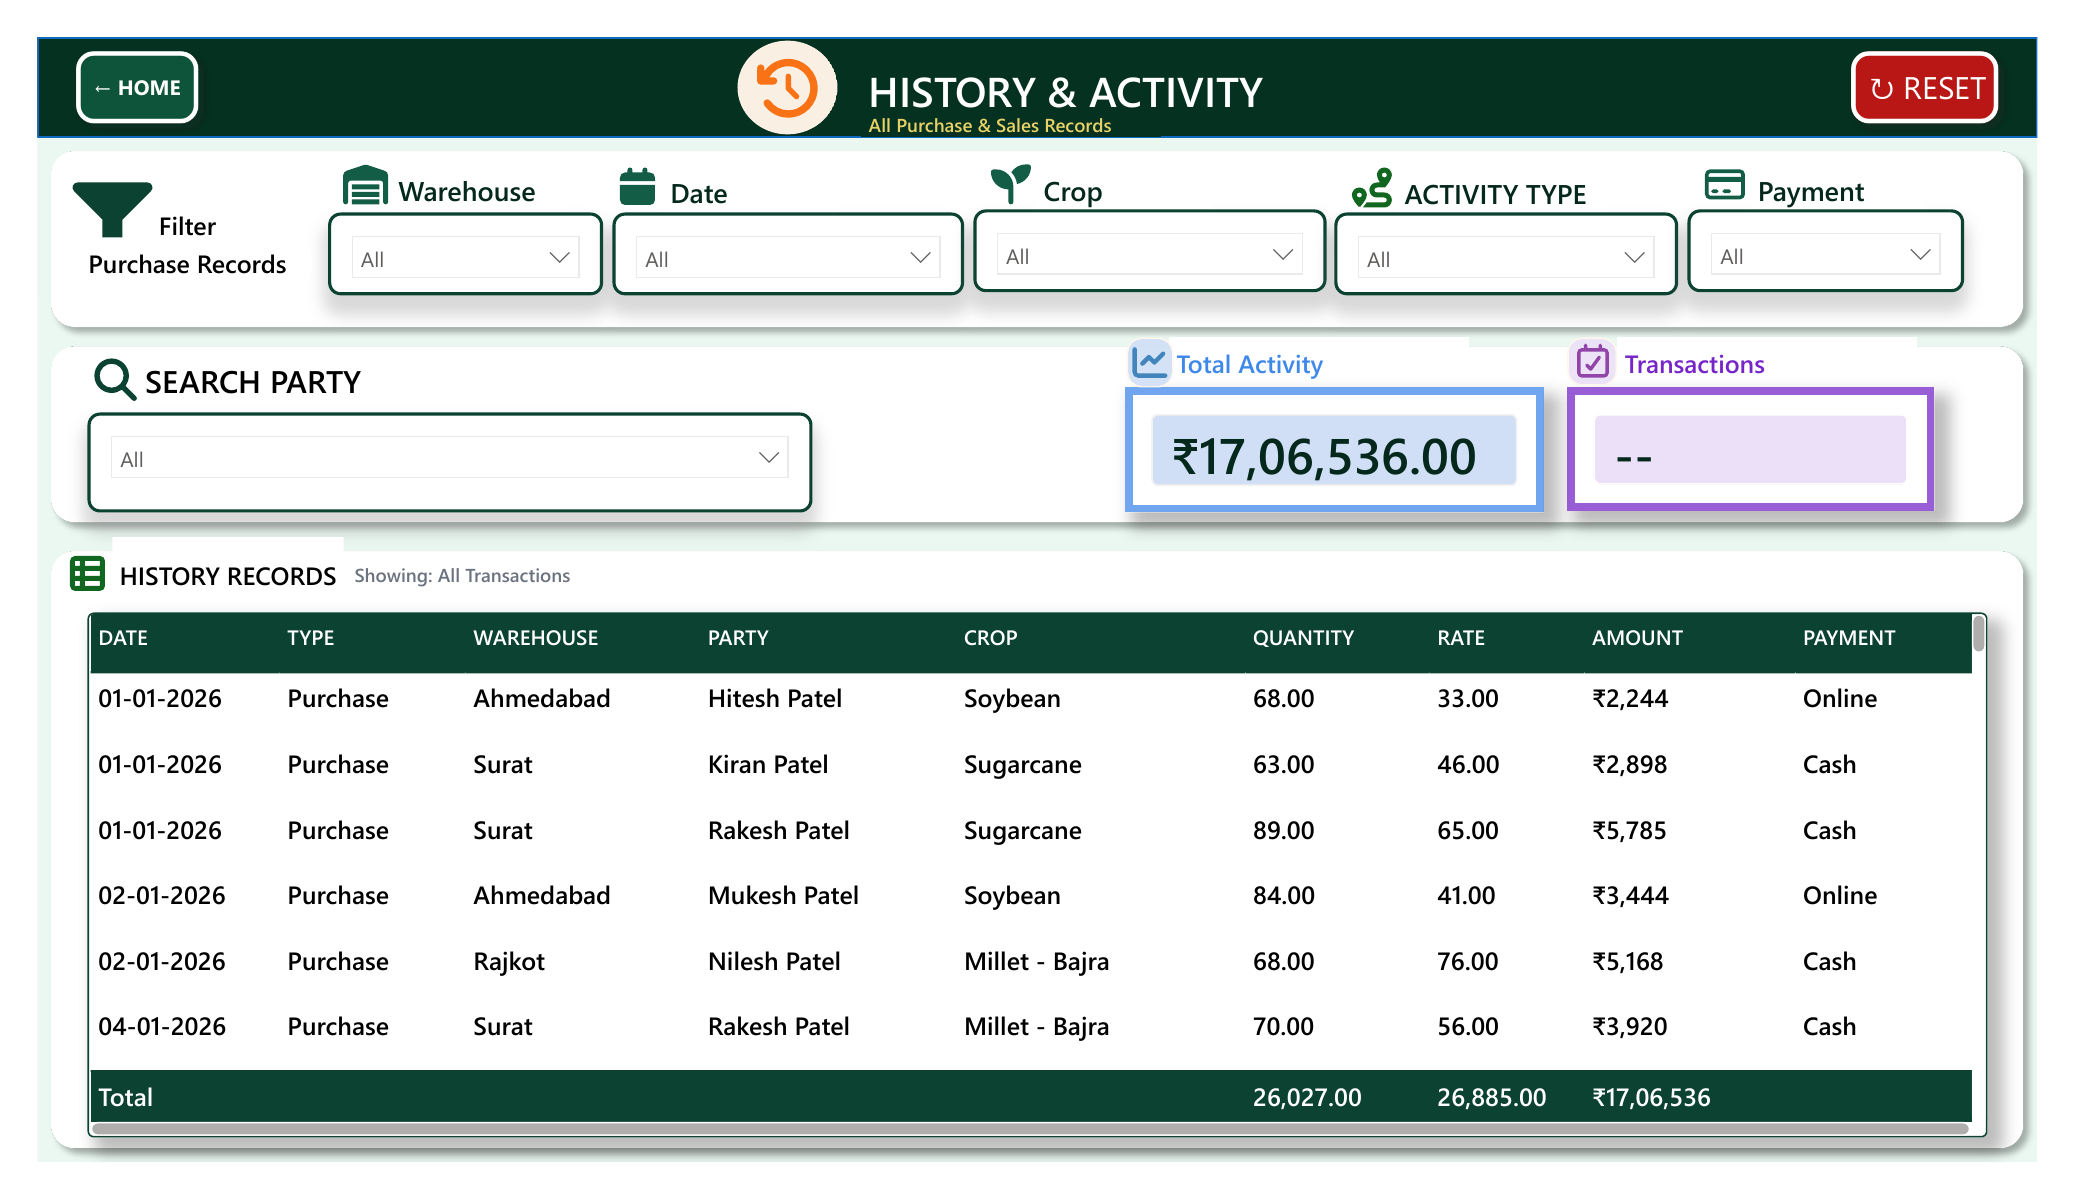

What the dashboard file says about the page in this screenshot:
{"tool":"powerbi","page":{"name":"DETAILED HISTORY","canvas":[1280,720],"ordinal":6},"visuals":[{"type":"shape","box":[0,0,1280,64],"z":0},{"type":"actionButton","box":[16,0,96,64],"z":1000},{"type":"textbox","title":"HISTORY & ACTIVITY","box":[527.4,16,336,32],"z":2000},{"type":"textbox","title":"All Purchase & Sales Records","box":[527.4,48,192,16],"z":3000},{"type":"actionButton","box":[1152,0,112,64],"z":4000},{"type":"shape","box":[448,0,64,64],"z":5000},{"type":"image","box":[457,0,47,64],"z":6000},{"type":"shape","box":[0,189.5,1280,130],"z":7000},{"type":"image","box":[33,197,34,45],"z":8000},{"type":"shape","box":[64,203,161,33],"z":9000},{"type":"slicer","title":"Warehouse","fields":{"Values":["HistoryActivity.Party"]},"box":[32,240,464,64],"z":10000},{"type":"shape","box":[0,64,1280,130],"z":11000},{"type":"shape","box":[64,96,64,48],"z":12000},{"type":"image","box":[16,80,64,64],"z":13000},{"type":"slicer","title":"Warehouse","fields":{"Values":["HistoryActivity.Warehouse"]},"box":[186,112.2,176,53],"z":14000},{"type":"image","box":[194.2,78.4,32,32],"z":15000},{"type":"textbox","title":"Warehouse","box":[226.2,86.4,112,24],"z":16000},{"type":"slicer","title":"Warehouse","fields":{"Values":["HistoryActivity.ActivityDate"]},"box":[368,112,225,53],"z":17000},{"type":"image","box":[368,80,32,32],"z":18000},{"type":"textbox","title":"Date","box":[400,80,112,32],"z":19000},{"type":"slicer","title":"Warehouse","fields":{"Values":["HistoryActivity.Crop"]},"box":[599.3,109.6,226,53],"z":20000},{"type":"image","box":[607.3,77.6,32,32],"z":21000},{"type":"textbox","title":"Crop","box":[639.3,85.6,112,24],"z":22000},{"type":"slicer","title":"Warehouse","fields":{"Values":["HistoryActivity.Type"]},"box":[830.4,112,220,53],"z":23000},{"type":"image","box":[838.4,80,32,32],"z":24000},{"type":"textbox","title":"ACTIVITY TYPE","box":[870.4,88,135,24],"z":25000},{"type":"slicer","title":"Warehouse","fields":{"Values":["HistoryActivity.PaymentMethod"]},"box":[1056.2,110.2,177,53],"z":26000},{"type":"image","box":[1064.2,78.2,32,32],"z":27000},{"type":"textbox","title":"Payment","box":[1096.2,86.2,112,24],"z":28000},{"type":"shape","box":[16,128,160,32],"z":29000},{"type":"textbox","title":"Total Activity","box":[724,191.6,192,32],"z":30000},{"type":"cardVisual","fields":{"Data":["HistoryActivity.Total Activity Amount"]},"box":[696,224,268,80],"z":31000},{"type":"image","box":[697,191.6,30,32],"z":32000},{"type":"textbox","title":"Transactions","box":[1010.6,191.6,192,32],"z":33000},{"type":"cardVisual","fields":{"Data":["HistoryActivity.Today's Activity Amount"]},"box":[978.6,223.6,235,79],"z":34000},{"type":"image","box":[978.6,192,32,31],"z":35000},{"type":"shape","box":[0,320,1280,400],"z":36000},{"type":"image","box":[16,320,32,48],"z":37000},{"type":"shape","box":[48,320,160,48],"z":38000},{"type":"textbox","title":"Showing: All Transactions","box":[192,336,160,16],"z":39000},{"type":"tableEx","fields":{"Values":["HistoryActivity.ActivityDate","HistoryActivity.Type","HistoryActivity.Warehouse","HistoryActivity.Party","HistoryActivity.Crop","Sum(HistoryActivity.Quantity)","Sum(HistoryActivity.Rate)","Sum(HistoryActivity.Amount)","HistoryActivity.PaymentMethod"]},"box":[32,368,1216,336],"z":40000}]}

Visuals, with their boxes on the page's 1280x720 design canvas (x1, y1, x2, y2). These are canvas units, not pixel positions in the 2075x1200 screenshot, which may show the page scaled, cropped or inside an application window:
shape: rect(0, 0, 1280, 64)
actionButton: rect(16, 0, 112, 64)
"HISTORY & ACTIVITY" textbox: rect(527, 16, 863, 48)
"All Purchase & Sales Records" textbox: rect(527, 48, 719, 64)
actionButton: rect(1152, 0, 1264, 64)
shape: rect(448, 0, 512, 64)
image: rect(457, 0, 504, 64)
shape: rect(0, 190, 1280, 320)
image: rect(33, 197, 67, 242)
shape: rect(64, 203, 225, 236)
"Warehouse" slicer: rect(32, 240, 496, 304)
shape: rect(0, 64, 1280, 194)
shape: rect(64, 96, 128, 144)
image: rect(16, 80, 80, 144)
"Warehouse" slicer: rect(186, 112, 362, 165)
image: rect(194, 78, 226, 110)
"Warehouse" textbox: rect(226, 86, 338, 110)
"Warehouse" slicer: rect(368, 112, 593, 165)
image: rect(368, 80, 400, 112)
"Date" textbox: rect(400, 80, 512, 112)
"Warehouse" slicer: rect(599, 110, 825, 163)
image: rect(607, 78, 639, 110)
"Crop" textbox: rect(639, 86, 751, 110)
"Warehouse" slicer: rect(830, 112, 1050, 165)
image: rect(838, 80, 870, 112)
"ACTIVITY TYPE" textbox: rect(870, 88, 1005, 112)
"Warehouse" slicer: rect(1056, 110, 1233, 163)
image: rect(1064, 78, 1096, 110)
"Payment" textbox: rect(1096, 86, 1208, 110)
shape: rect(16, 128, 176, 160)
"Total Activity" textbox: rect(724, 192, 916, 224)
cardVisual - HistoryActivity.Total Activity Amount: rect(696, 224, 964, 304)
image: rect(697, 192, 727, 224)
"Transactions" textbox: rect(1011, 192, 1203, 224)
cardVisual - HistoryActivity.Today's Activity Amount: rect(979, 224, 1214, 303)
image: rect(979, 192, 1011, 223)
shape: rect(0, 320, 1280, 720)
image: rect(16, 320, 48, 368)
shape: rect(48, 320, 208, 368)
"Showing: All Transactions" textbox: rect(192, 336, 352, 352)
tableEx - HistoryActivity.ActivityDate x HistoryActivity.Type: rect(32, 368, 1248, 704)
